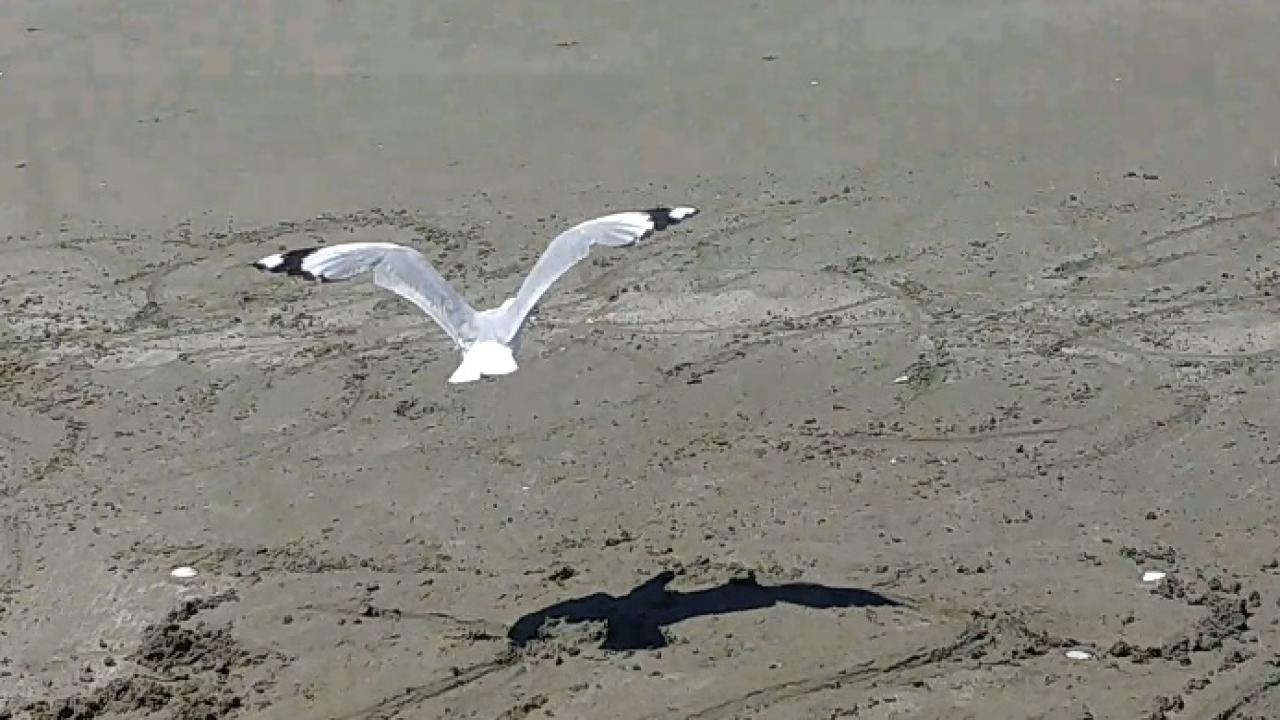Bird: (239, 197, 710, 392)
